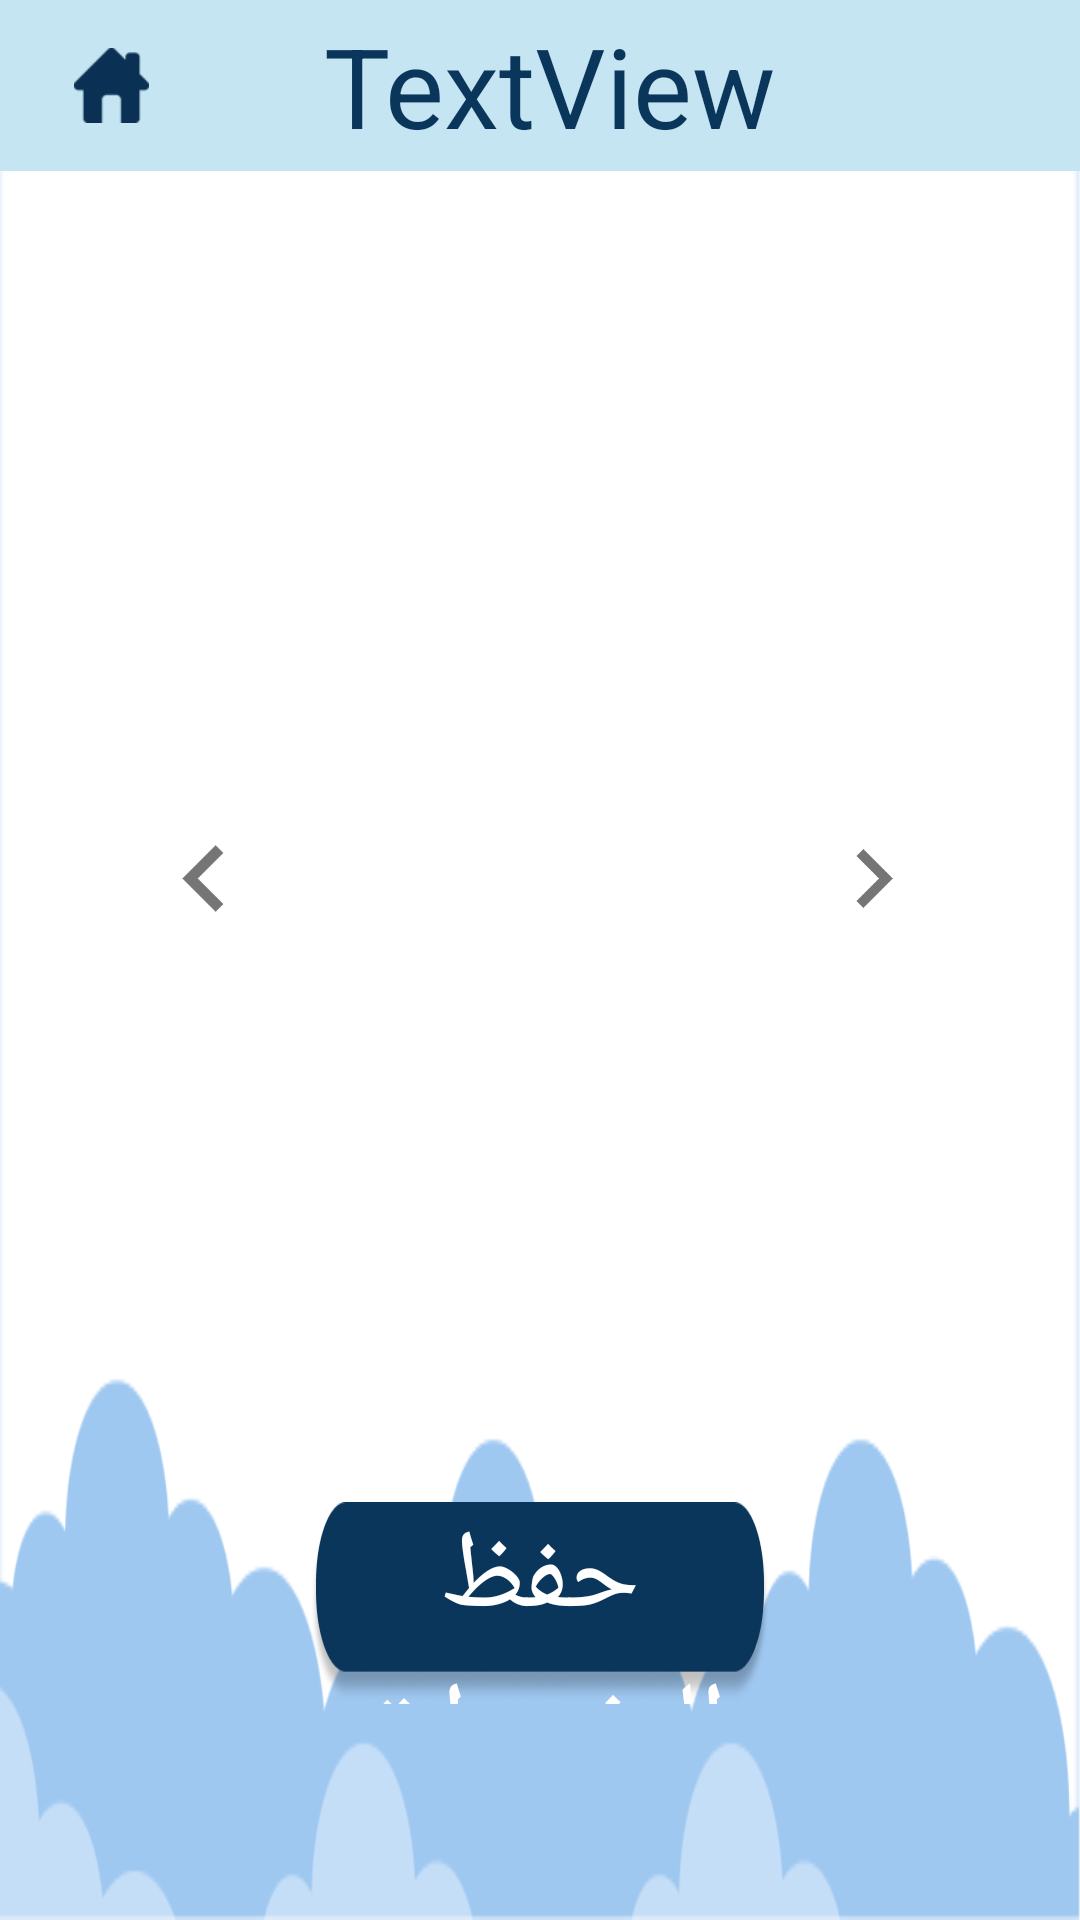

Where icons sit on this 1080 x 1920 app screen, as [x1, y1, x2, y2]:
home: [74, 48, 149, 123]
next: [857, 849, 893, 908]
prev: [182, 845, 223, 912]
